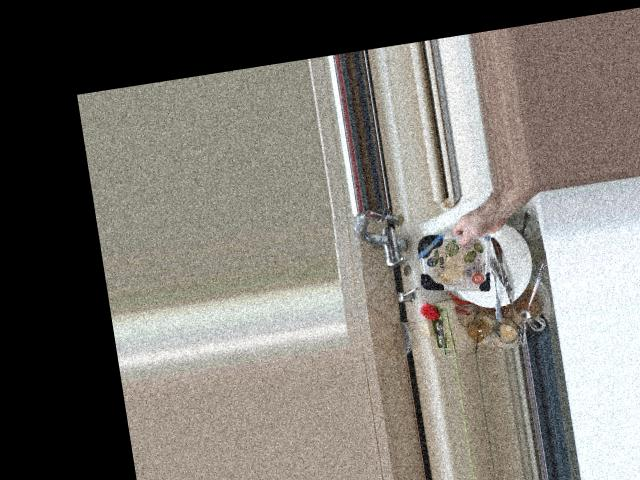cheese: (406, 206, 508, 299)
